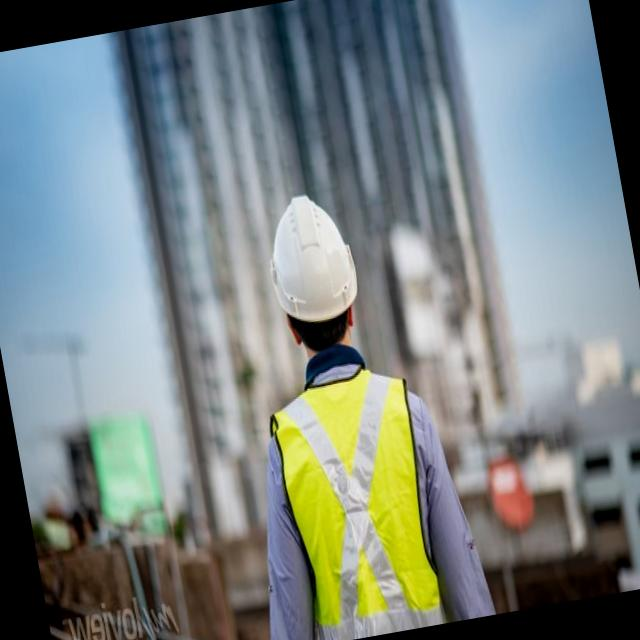helmet: (252, 188, 362, 328)
vest: (263, 378, 445, 640)
